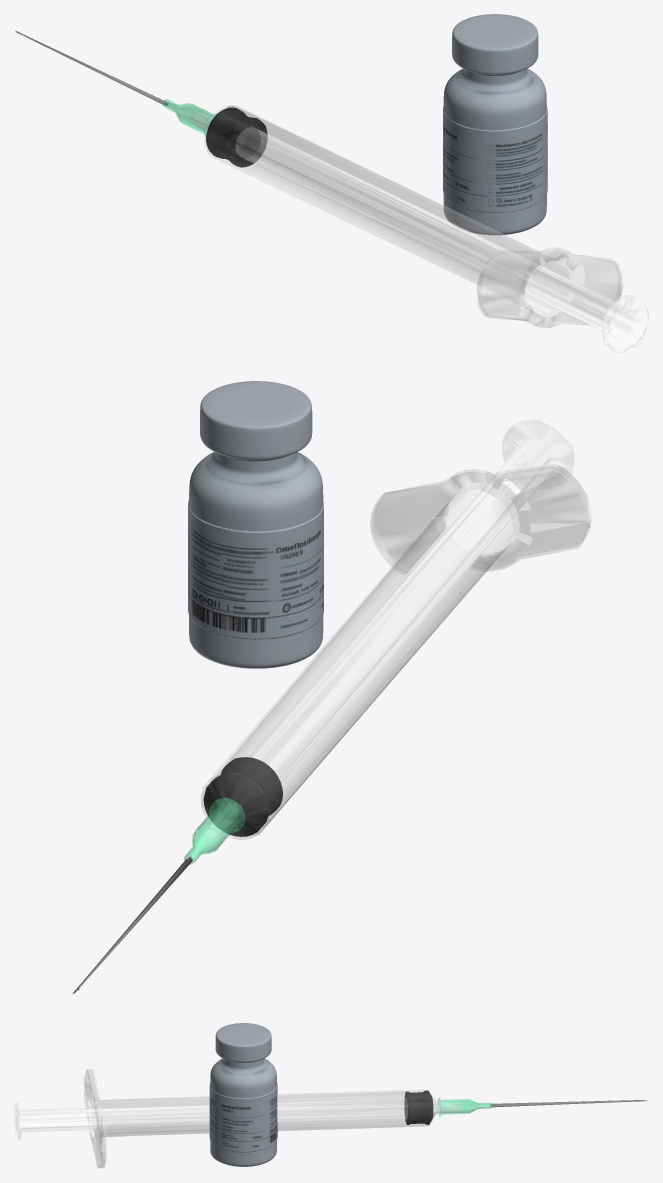
Rendered from SyringeVial.glb.
The picture shows the model from 3 angles, top to bottom: view 1: azimuth 30°, elevation 25°; view 2: azimuth 150°, elevation 25°; view 3: azimuth 270°, elevation 25°; orthographic projection. The views are drawn at different scales.
Visible parts, largest first — view 1: BarrelSyringe, VialSyringe, PlungerSyringe, TipSyringe; view 2: BarrelSyringe, VialSyringe, PlungerSyringe, TipSyringe; view 3: BarrelSyringe, VialSyringe, PlungerSyringe, TipSyringe.
Boxes of the visible parts, x1,y1,x2,y2 form: BarrelSyringe: (192,105,622,327); VialSyringe: (443,14,547,235); PlungerSyringe: (206,107,648,352); TipSyringe: (15,30,216,136); BarrelSyringe: (201,464,591,840); VialSyringe: (188,381,323,668); PlungerSyringe: (203,419,574,836); TipSyringe: (72,798,245,993); BarrelSyringe: (84,1068,461,1168); VialSyringe: (209,1023,277,1166); PlungerSyringe: (14,1090,433,1140); TipSyringe: (438,1098,647,1116).
Size of the model in its own units: 1.21 by 1.13 by 4.74.
7 materials, 1 textured.
